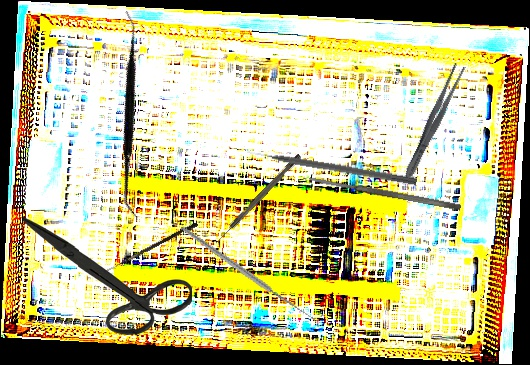Dressing Forceps: (400, 61, 468, 181)
Hook Surgical: (178, 188, 325, 356), (215, 153, 303, 243), (98, 220, 199, 280)
Iris Scissors: (20, 215, 194, 337)
Pusher: (246, 146, 418, 186)
Spatula Surgical: (40, 9, 223, 219), (308, 174, 462, 212)
